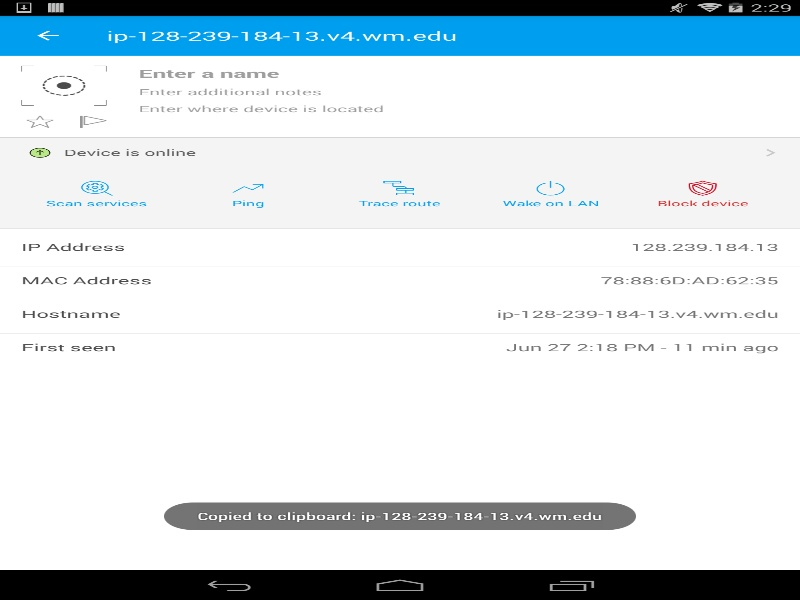Button: (637, 198, 768, 228), (32, 198, 162, 228), (183, 198, 313, 228), (334, 198, 464, 228), (486, 198, 616, 228), (10, 15, 85, 55)
Input: (138, 85, 778, 97), (138, 102, 778, 114), (138, 65, 279, 80)
